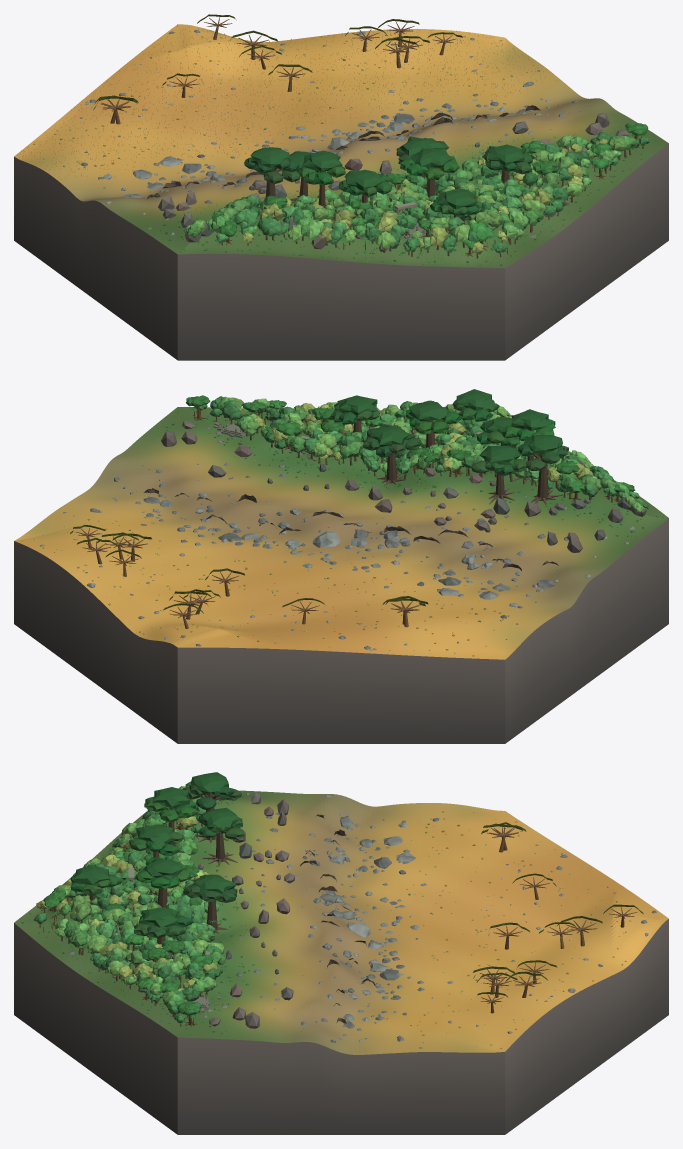
The picture shows the model from 3 angles, top to bottom: view 1: azimuth 30°, elevation 25°; view 2: azimuth 150°, elevation 25°; view 3: azimuth 270°, elevation 25°; orthographic projection.
Parts seen in each view (by area): view 1: terrain, hex_side_cut, broadleaf_canopy, ancient-crowns, wildflowers, boulders, fault-stone, branches, trunks, shrubs, rock_escarpments, monumental-trunks; view 2: terrain, hex_side_cut, broadleaf_canopy, ancient-crowns, boulders, fault-stone, trunks, shrubs, branches, monumental-trunks, rock_escarpments; view 3: terrain, hex_side_cut, broadleaf_canopy, ancient-crowns, boulders, fault-stone, branches, shrubs, trunks, monumental-trunks, rock_escarpments.
Boxes of the visible parts, x1,y1,x2,y2 form: terrain: (14, 24, 668, 268); hex_side_cut: (14, 143, 668, 360); broadleaf_canopy: (93, 14, 649, 254); ancient-crowns: (244, 136, 532, 215); wildflowers: (17, 24, 662, 266); boulders: (60, 30, 616, 261); fault-stone: (158, 113, 629, 251); branches: (100, 17, 641, 245); trunks: (110, 26, 643, 258); shrubs: (33, 33, 656, 266); rock_escarpments: (147, 105, 540, 198); monumental-trunks: (265, 167, 509, 217); terrain: (14, 407, 668, 659); hex_side_cut: (14, 518, 668, 743); broadleaf_canopy: (70, 395, 648, 613); ancient-crowns: (330, 389, 568, 475); boulders: (40, 427, 634, 650); fault-stone: (161, 421, 646, 552); trunks: (87, 406, 639, 628); shrubs: (22, 411, 663, 656); branches: (76, 405, 629, 617); monumental-trunks: (353, 420, 548, 500); rock_escarpments: (144, 488, 558, 570); terrain: (14, 790, 668, 1054); hex_side_cut: (14, 919, 668, 1134); broadleaf_canopy: (34, 781, 643, 1023); ancient-crowns: (70, 772, 244, 938); boulders: (68, 793, 656, 1048); fault-stone: (99, 786, 294, 1028); branches: (48, 821, 637, 1022); shrubs: (21, 796, 630, 1048); trunks: (39, 823, 624, 1026); monumental-trunks: (89, 793, 225, 944); rock_escarpments: (300, 814, 375, 1023).
Bounding box in the file's own units: 4330 × 1457 × 5000.
